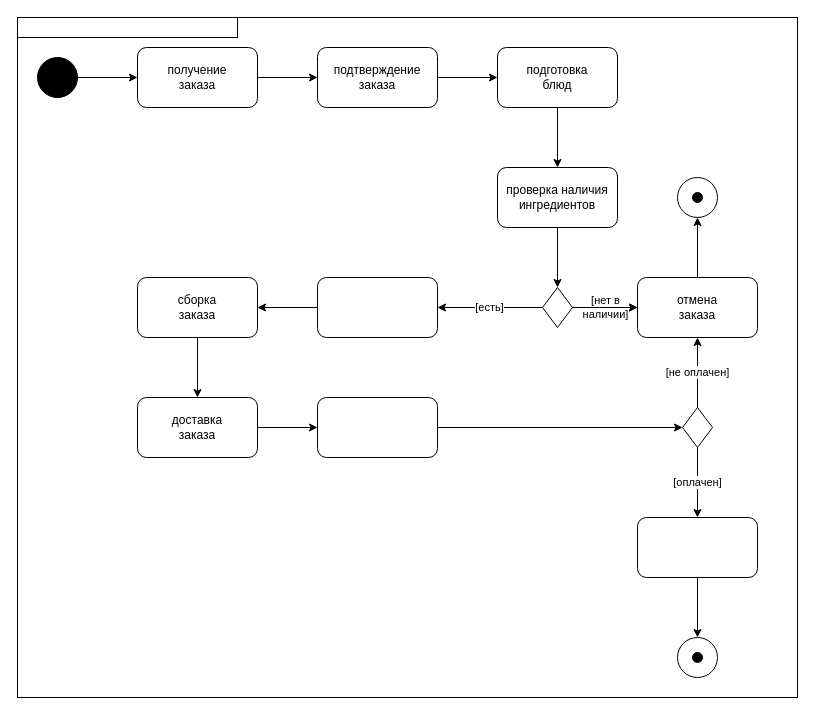
Some shapes in this 815 by 715 pixel diagram are drawn without their labels. The shapes that lost their labels are listed below. From the top down, each one's box as (x1, y1, x2, y2) in pixels, then its label:
(16, 16, 238, 38): Диаграмма деятельности
(316, 276, 438, 338): приготовление блюд
(316, 396, 438, 458): проверка оплаты заказа
(636, 516, 758, 578): завершение заказа
